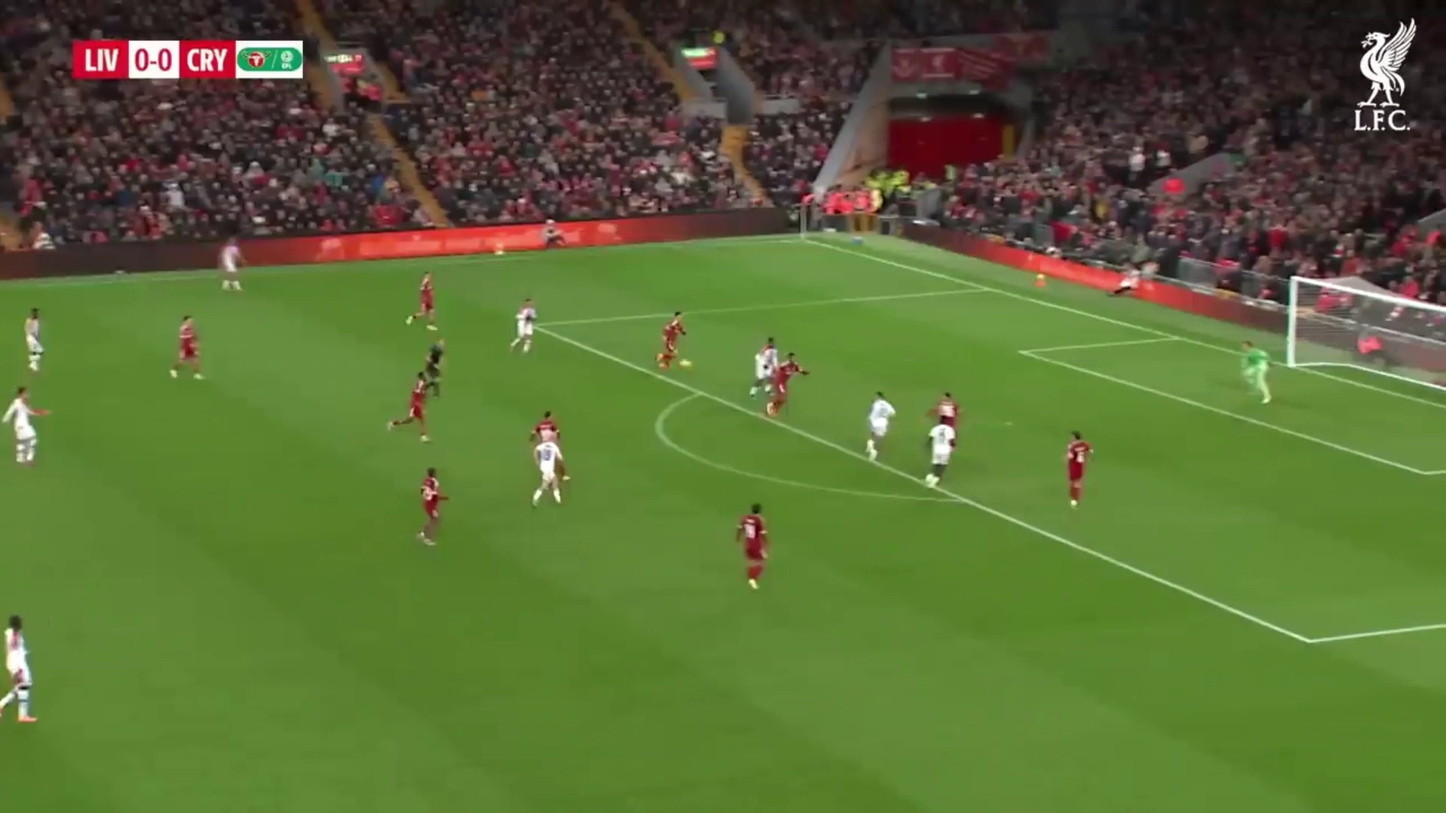player: (753, 336, 803, 418), (756, 354, 811, 421), (530, 414, 569, 506), (1, 617, 34, 724), (924, 396, 958, 492), (386, 379, 435, 439), (736, 506, 769, 592), (6, 389, 42, 467), (768, 348, 808, 417), (170, 315, 204, 382), (753, 335, 782, 412), (418, 468, 446, 547), (1064, 431, 1091, 509), (657, 310, 690, 370), (867, 389, 894, 461), (1242, 348, 1274, 404), (509, 299, 538, 356), (218, 239, 245, 293), (23, 309, 46, 369), (411, 275, 437, 327)
